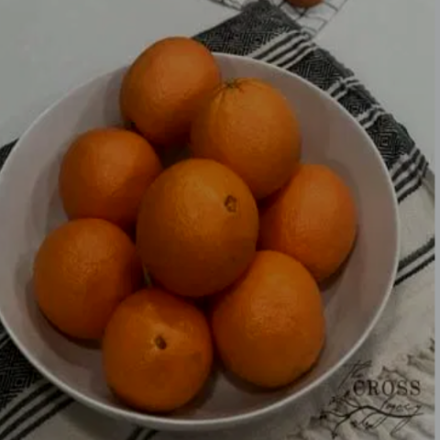orange: (132, 155, 264, 296), (236, 149, 379, 274), (204, 243, 325, 389), (95, 273, 213, 415), (14, 213, 146, 337), (115, 31, 228, 140)
